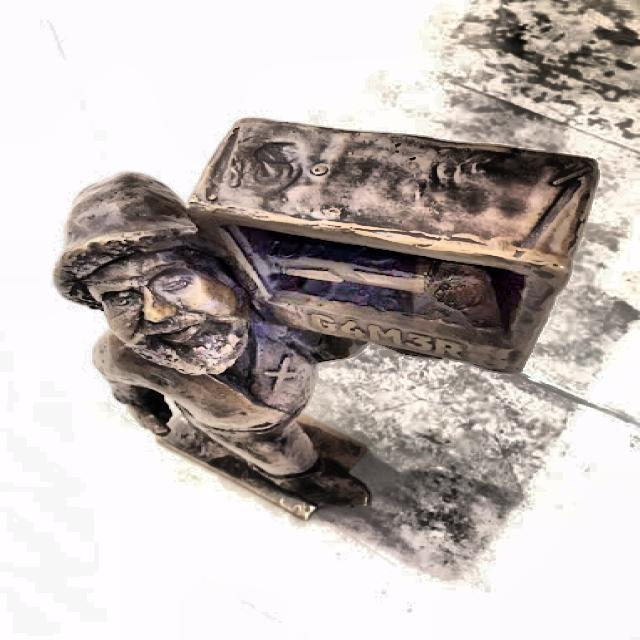GigaHercjusz: (55, 119, 597, 517)
